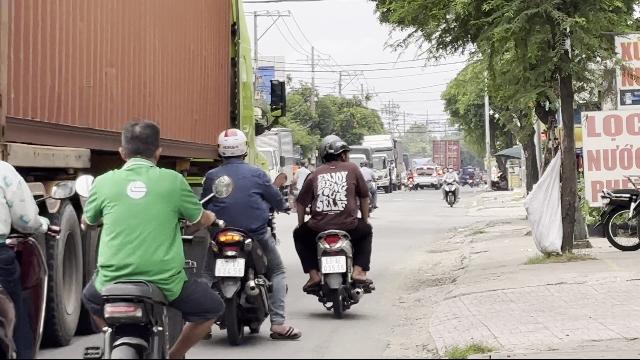helmet: (216, 127, 248, 161), (323, 138, 351, 164), (321, 134, 341, 150)
licenseplate: (215, 259, 245, 277), (322, 256, 346, 274)
motorcyclist: (72, 118, 232, 356), (198, 125, 290, 343), (292, 134, 378, 318)
nohelmet: (116, 119, 164, 167)
